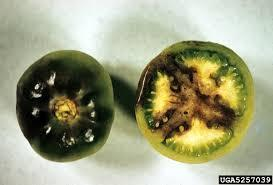tomato late blight: (135, 42, 257, 166), (16, 51, 116, 164)
